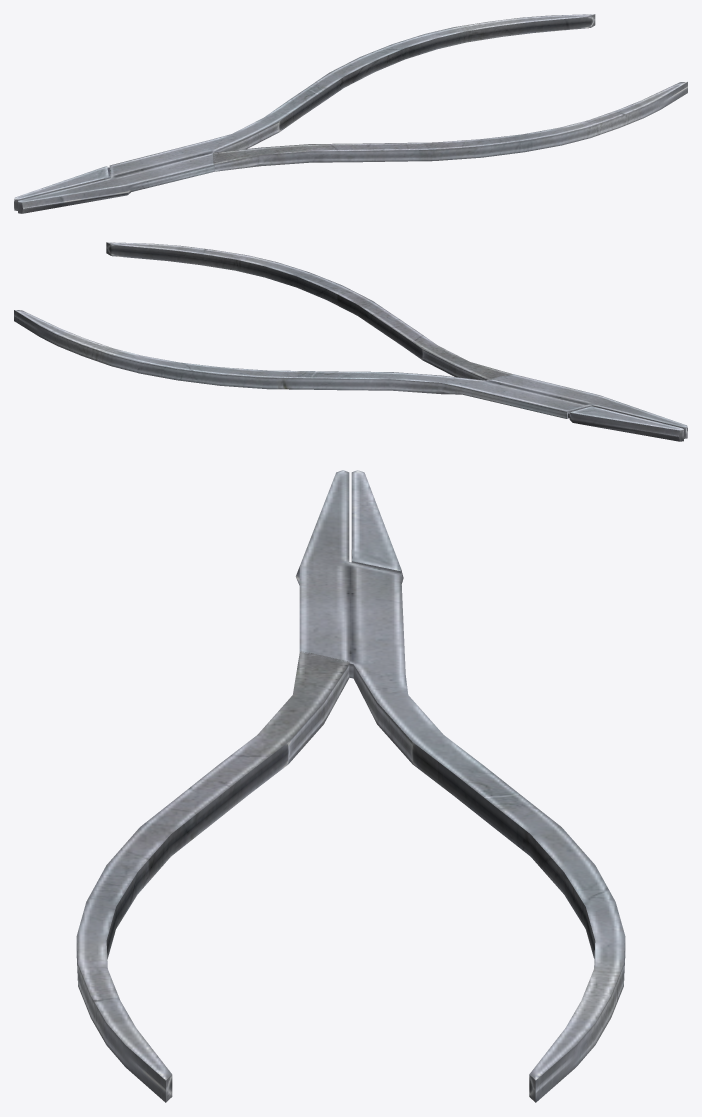
The model's file is Tang.fbx.
3 renders of one model, top to bottom at view 1: azimuth 30°, elevation 25°; view 2: azimuth 150°, elevation 25°; view 3: azimuth 270°, elevation 25°, orthographic. The views are drawn at different scales.
Parts seen in each view (by area): view 1: polySurface31; view 2: polySurface31; view 3: polySurface31.
Boxes of the visible parts, bbox=[...] form: polySurface31: bbox=[14, 14, 687, 213]; polySurface31: bbox=[14, 242, 687, 441]; polySurface31: bbox=[76, 470, 625, 1102].
Bounding box in the file's own units: 21.08 × 0.3599 × 8.
